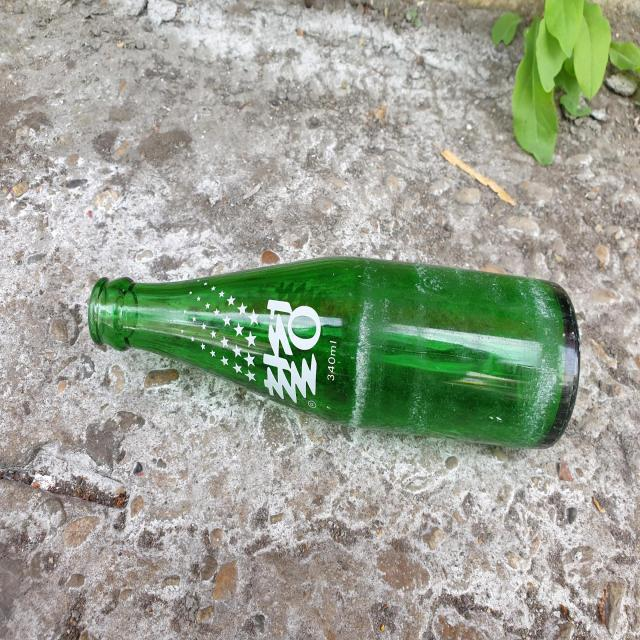glass: (87, 257, 580, 447)
